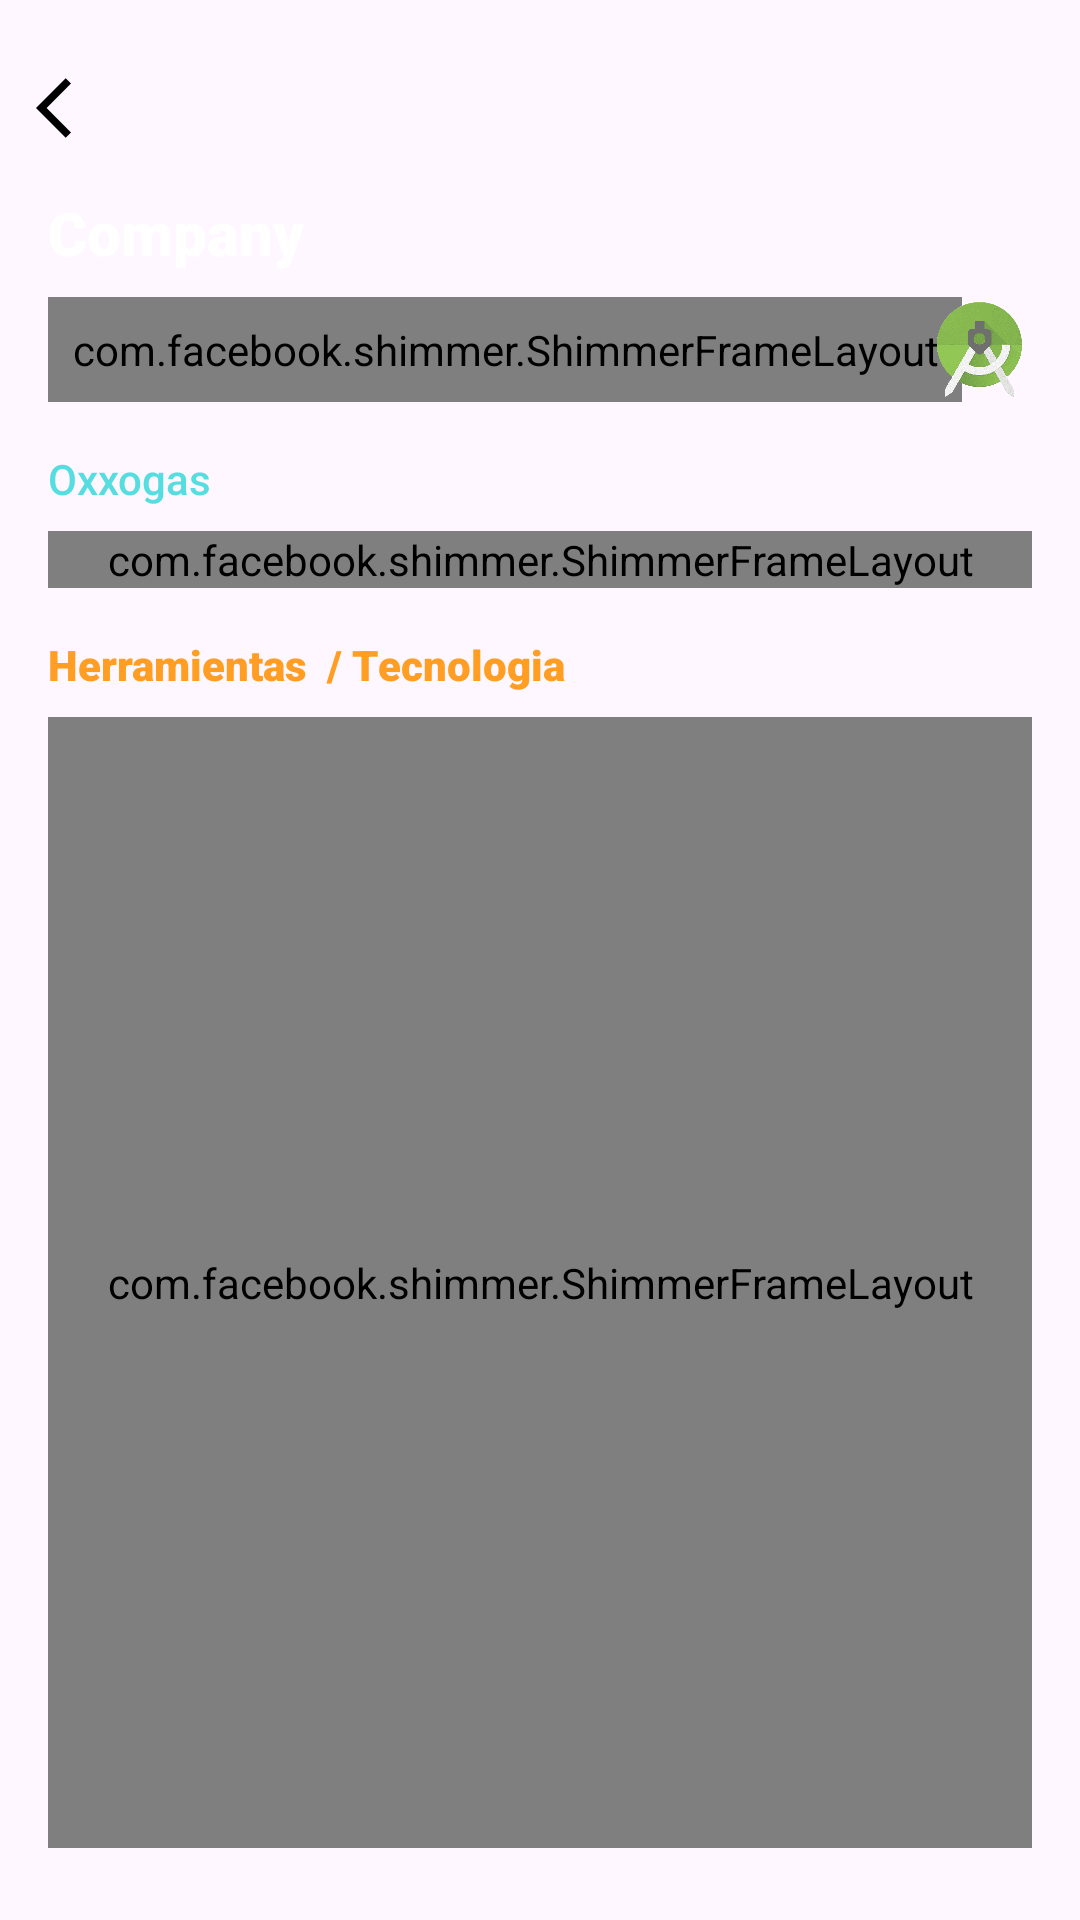

Screen size 1080w x 1920h. Icon name, then its box in pixels as (x1, y1, x2, y2):
arrow back: (36, 78, 71, 138)
